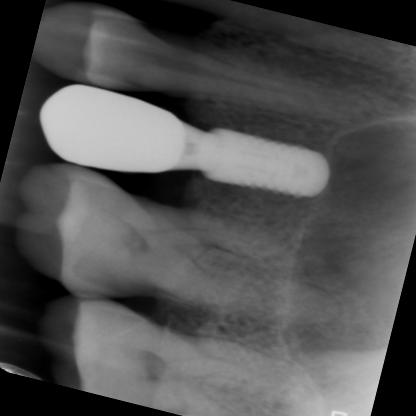ITI: (194, 125, 335, 202)
